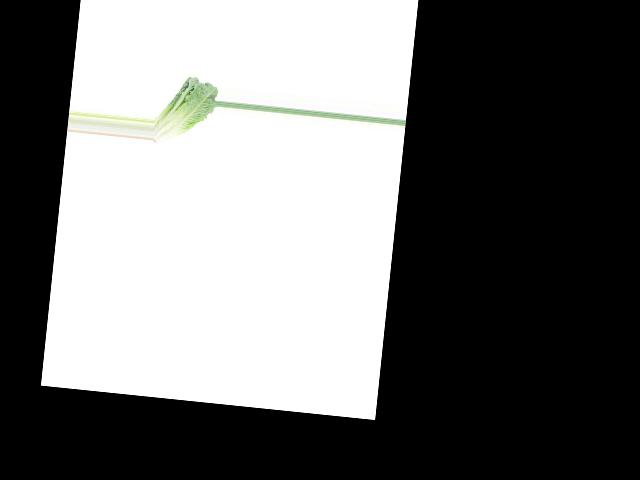lettuce: (152, 72, 219, 149)
